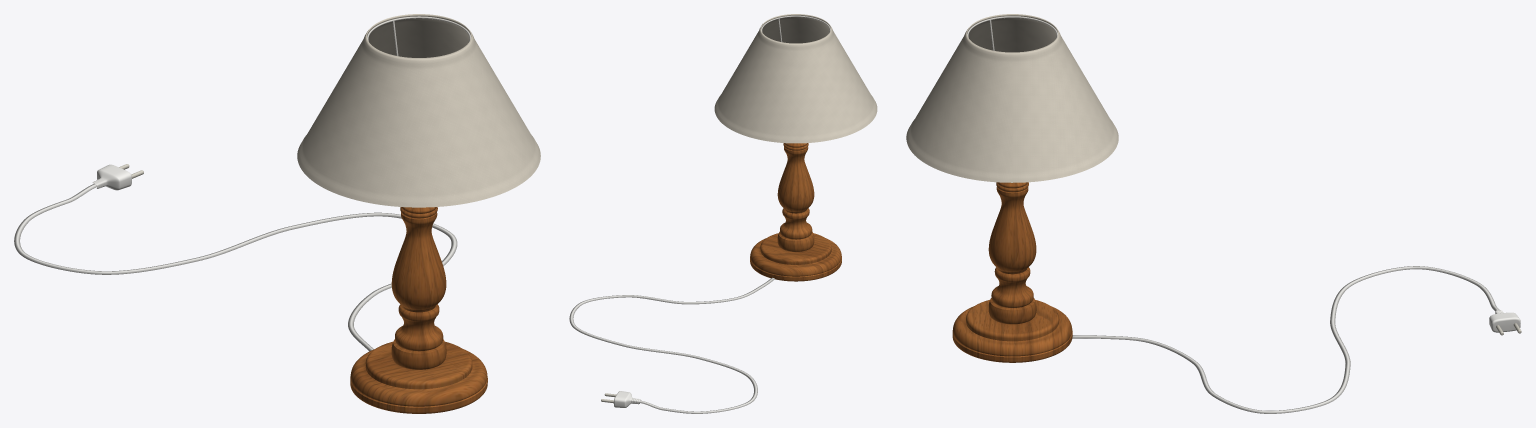
File: abajur-madeira.glb
3 views of the same model, side by side, from view 1: azimuth 30°, elevation 25°; view 2: azimuth 150°, elevation 25°; view 3: azimuth 270°, elevation 25° (orthographic). The views are drawn at different scales.
Parts seen in each view (by area): view 1: Cupula, Coluna, Base, Fio, Plugue; view 2: Cupula, Coluna, Base, Fio, Plugue; view 3: Cupula, Coluna, Base, Fio, Plugue.
Boxes of the visible parts, x1,y1,x2,y2 form: Cupula: [297, 14, 540, 207]; Coluna: [391, 207, 446, 369]; Base: [350, 341, 487, 413]; Fio: [14, 183, 457, 351]; Plugue: [92, 164, 143, 190]; Cupula: [714, 14, 877, 143]; Coluna: [777, 143, 814, 251]; Base: [750, 233, 841, 281]; Fio: [569, 277, 774, 413]; Plugue: [601, 391, 640, 407]; Cupula: [906, 14, 1118, 182]; Coluna: [988, 182, 1036, 324]; Base: [952, 300, 1072, 362]; Fio: [1072, 266, 1499, 413]; Plugue: [1489, 310, 1521, 335].
Size of the model in its own units: 0.3621 by 0.3514 by 0.641.
10 materials, 2 textured.
